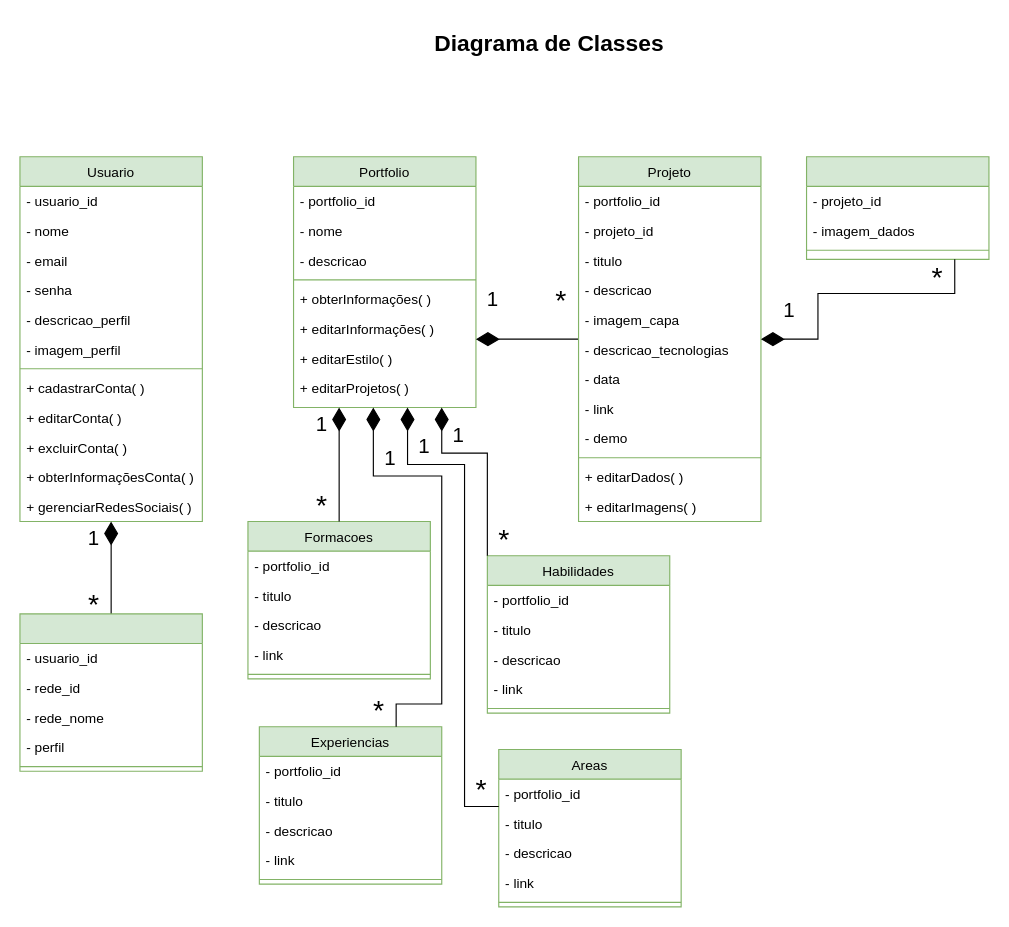
Some shapes in this 1009 by 927 pixel diagram are drawn without their labels. The shapes that lost their labels are listed below. From the top down, each one's box as (x1, y1, x2, y2) in pixels, then its label:
(805, 156, 989, 259): ImagensProjeto
(19, 613, 202, 771): RedeSocial
